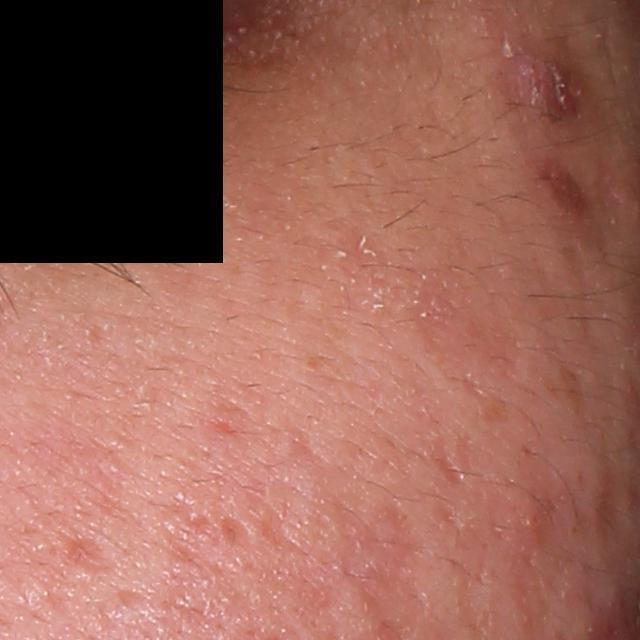atrophic_scar: (157, 493, 254, 581), (255, 475, 307, 554), (425, 431, 470, 491), (59, 535, 127, 574)
